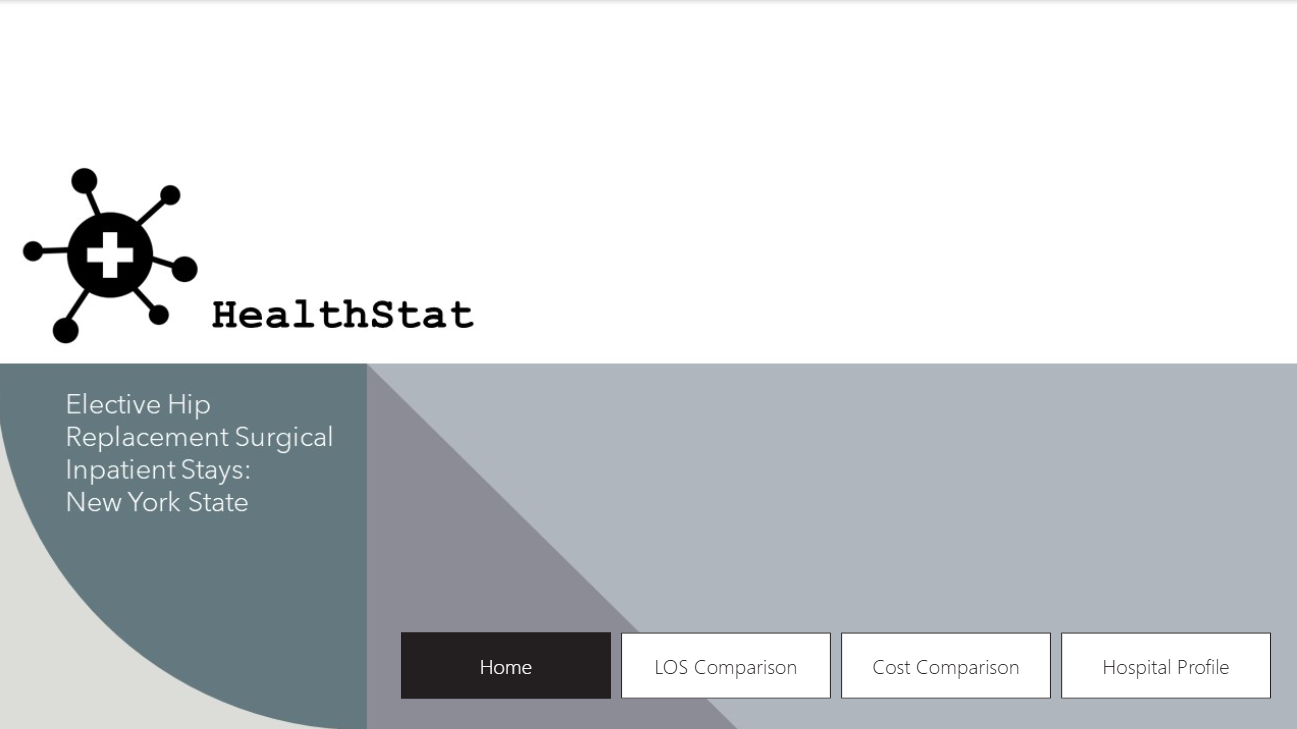

This screenshot's page, from the dashboard's own definition file:
{"tool":"powerbi","page":{"name":"Home","canvas":[1280,720],"ordinal":0},"visuals":[{"type":"pageNavigator","box":[397.1,621.4,854.3,65.7],"z":0}]}

Visuals, with their boxes in screenshot pixels (x1, y1, x2, y2), scaled from the page's 1280x720 canvas onto the 1297x729 screenshot:
pageNavigator: rect(402, 629, 1268, 696)
